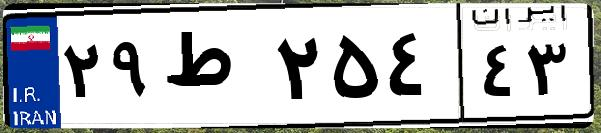2: (270, 28, 330, 110), (57, 26, 110, 100)
3: (525, 38, 570, 115)
4: (385, 28, 445, 110), (475, 38, 525, 113)
5: (330, 28, 385, 110)
9: (110, 28, 158, 98)
ط: (158, 20, 270, 120)
